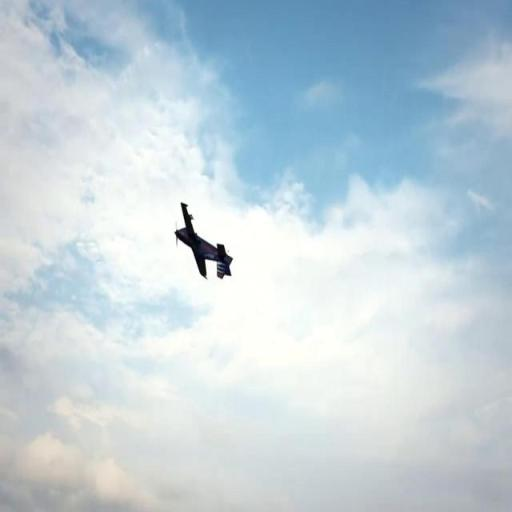uav: (175, 201, 232, 281)
